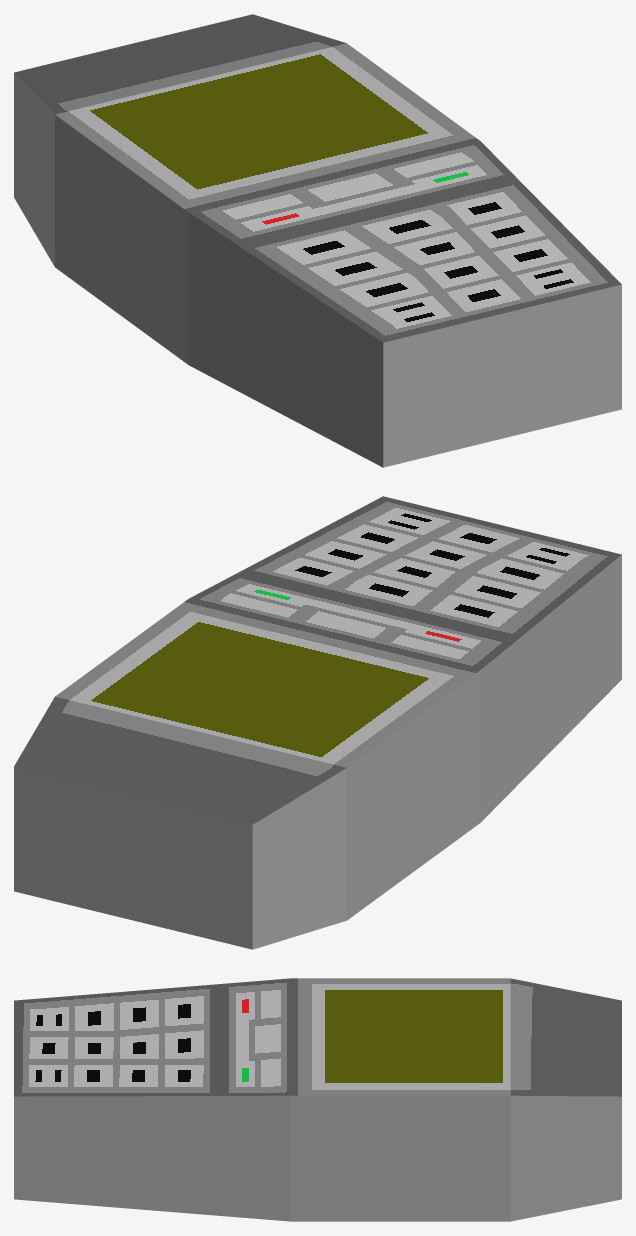
The model's file is ButtonPhone.fbx.
3 views of the same model, one above another, from view 1: azimuth 30°, elevation 25°; view 2: azimuth 150°, elevation 25°; view 3: azimuth 270°, elevation 25° (orthographic). The views are drawn at different scales.
Visible parts, largest first — view 1: ButtonPhone; view 2: ButtonPhone; view 3: ButtonPhone.
Boxes of the visible parts, x1,y1,x2,y2 form: ButtonPhone: [14, 14, 621, 467]; ButtonPhone: [14, 496, 621, 949]; ButtonPhone: [14, 978, 621, 1221].
Size of the model in its own units: 8.33 by 4.16 by 18.23.
1 material, 1 textured.
